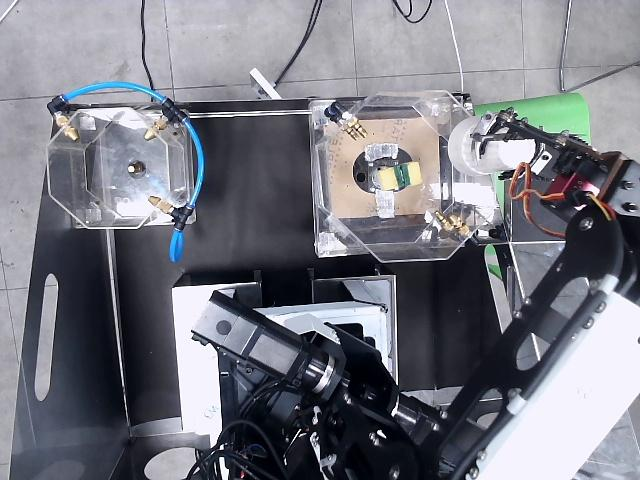cup: (449, 113, 533, 175)
